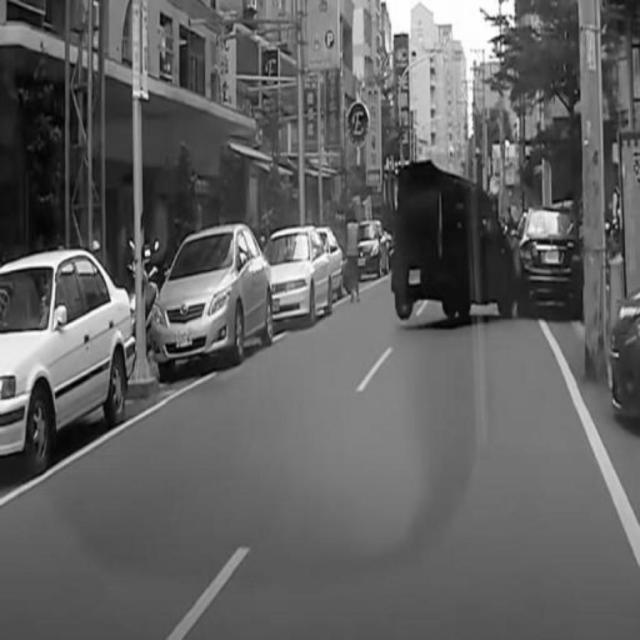accident: (381, 151, 586, 327)
person: (339, 209, 369, 301)
vehicle: (1, 250, 138, 464), (151, 225, 275, 379), (258, 228, 332, 326)
